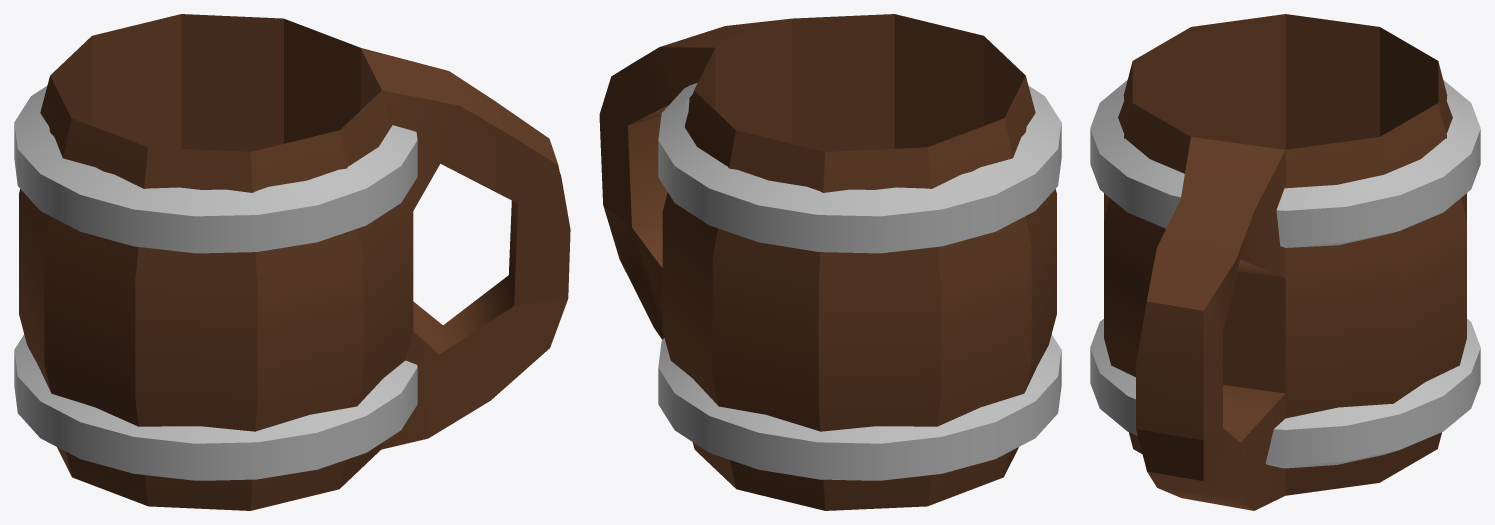
The model's file is Mug_Barrel.fbx.
The picture shows the model from 3 angles, left to right: view 1: azimuth 30°, elevation 25°; view 2: azimuth 150°, elevation 25°; view 3: azimuth 270°, elevation 25°; orthographic projection. The views are drawn at different scales.
Parts seen in each view (by area): view 1: pCylinder15; view 2: pCylinder15; view 3: pCylinder15.
Boxes of the visible parts, bbox=[...] form: pCylinder15: bbox=[14, 14, 570, 510]; pCylinder15: bbox=[599, 14, 1061, 510]; pCylinder15: bbox=[1090, 14, 1480, 510].
Size of the model in its own units: 25.79 by 18.51 by 18.93.
